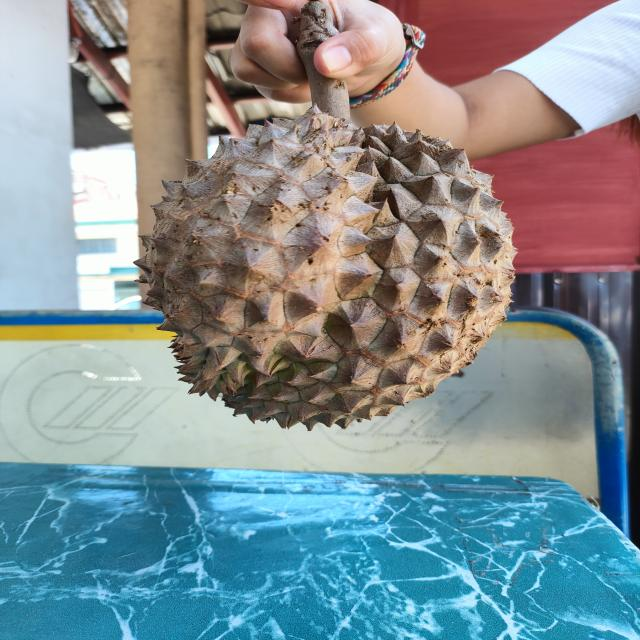mature: (138, 111, 516, 436)
